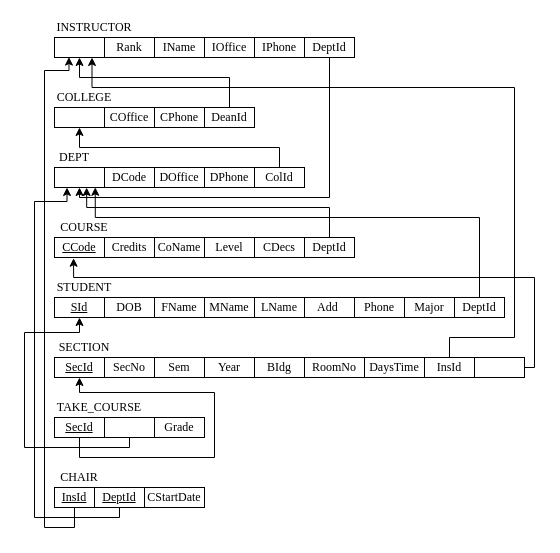
Some shapes in this 560 by 553 pixel diagram are drawn without their labels. The shapes that lost their labels are listed below. From the top down, each one's centre as x and y in pixels, then its label:
At [79,47]: "Id".
At [79,117]: "CName".
At [79,177]: "DName".
At [499,367]: "CourseId".
At [129,427]: "StuId".
